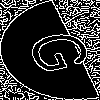G: (24, 25, 100, 76)
